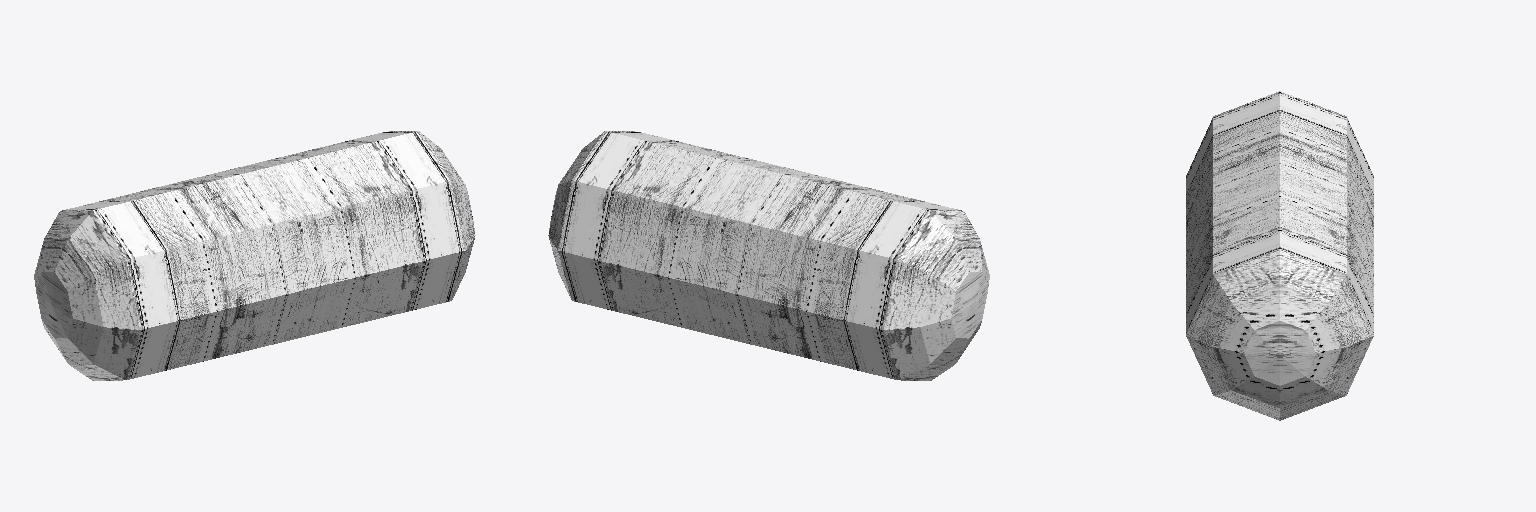
The picture shows the model from 3 angles: view 1: azimuth 30°, elevation 25°; view 2: azimuth 150°, elevation 25°; view 3: azimuth 270°, elevation 25°; orthographic projection.
Visible parts, largest first — view 1: Mesh1 Model; view 2: Mesh1 Model; view 3: Mesh1 Model.
Part boxes in pixels (bbox=[...]): Mesh1 Model: bbox=[34, 131, 475, 380]; Mesh1 Model: bbox=[548, 131, 989, 380]; Mesh1 Model: bbox=[1186, 91, 1373, 420].
Bounding box in the file's own units: 2.5 × 1 × 1.
1 materials, 1 textured.